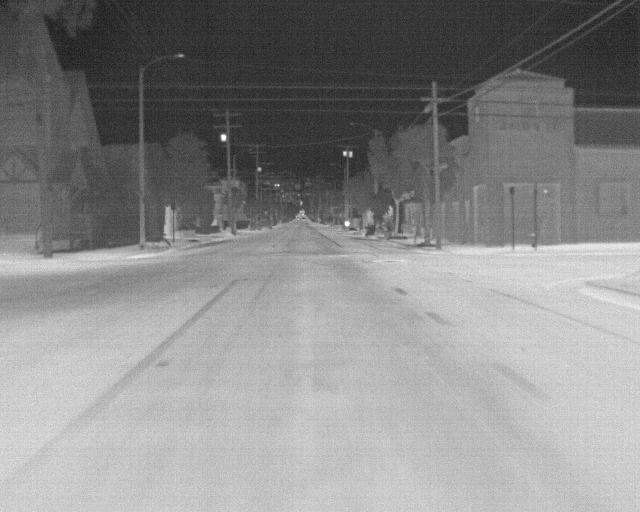car: (257, 214, 272, 229)
